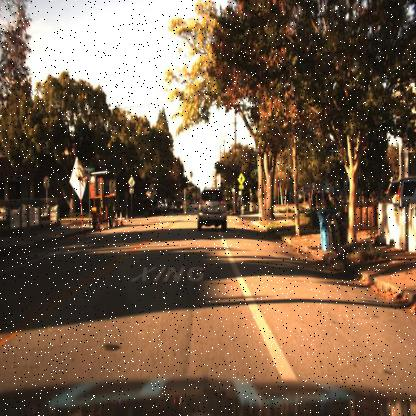car: (195, 187, 229, 235), (172, 196, 186, 218)
